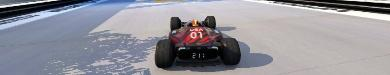Car: (154, 15, 241, 68)
